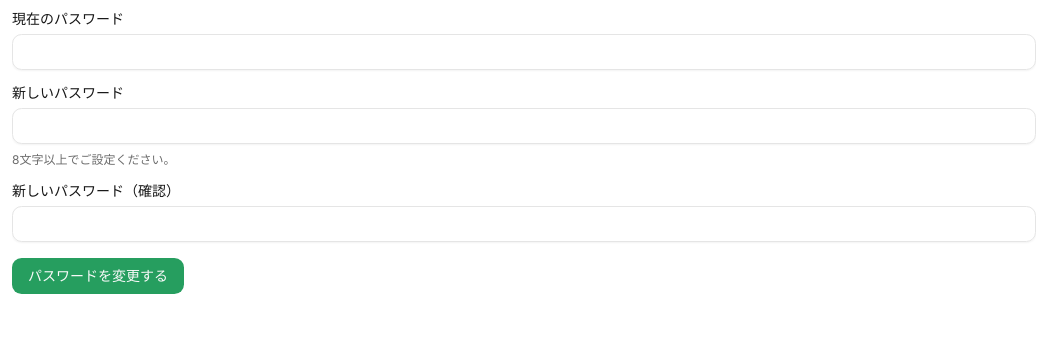
it: PasswordChangeForm › shows the 8-character minimum error for a short new password
This screenshot has width=1048, height=339.
Type "current123" into the password field labelled "現在のパスワード". click: (524, 52)
box: [12, 34, 1036, 70]
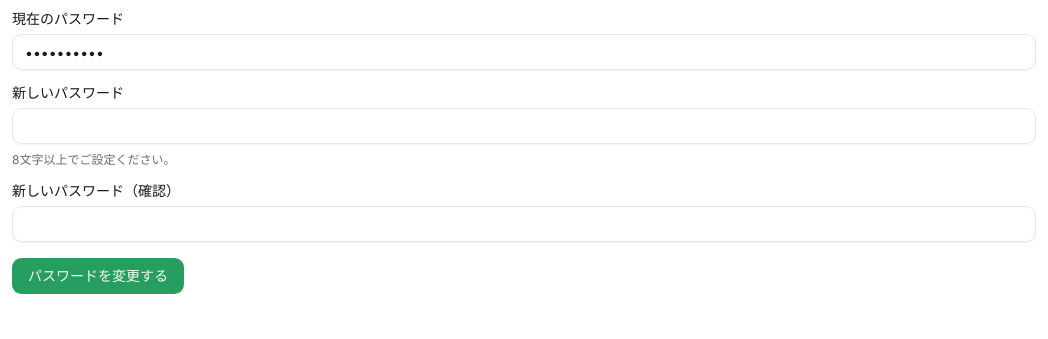
Type "short7c" into the password field labelled "新しいパスワード". click: (524, 126)
box: [12, 108, 1036, 144]
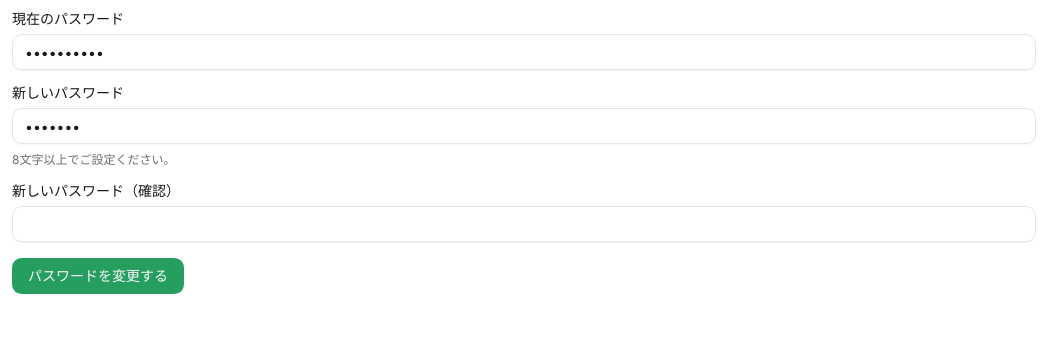
Type "short7c" into the password field labelled "新しいパスワード（確認）". click: (524, 224)
box: [12, 206, 1036, 242]
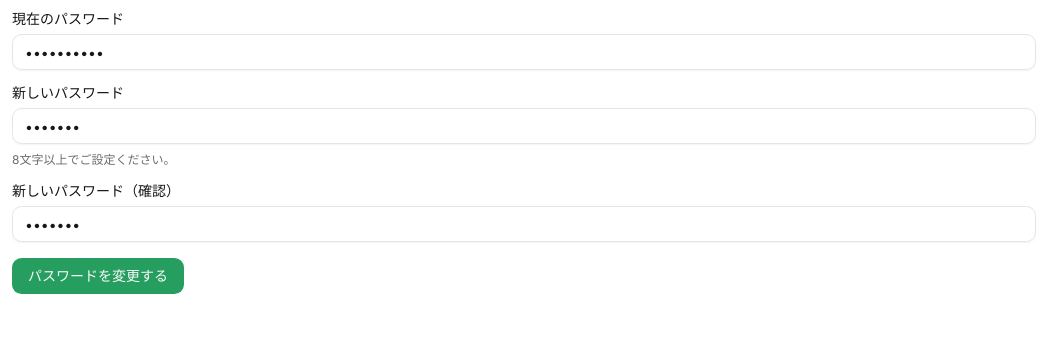
Click the button "パスワードを変更する". click: (98, 276)
box: [12, 258, 184, 294]
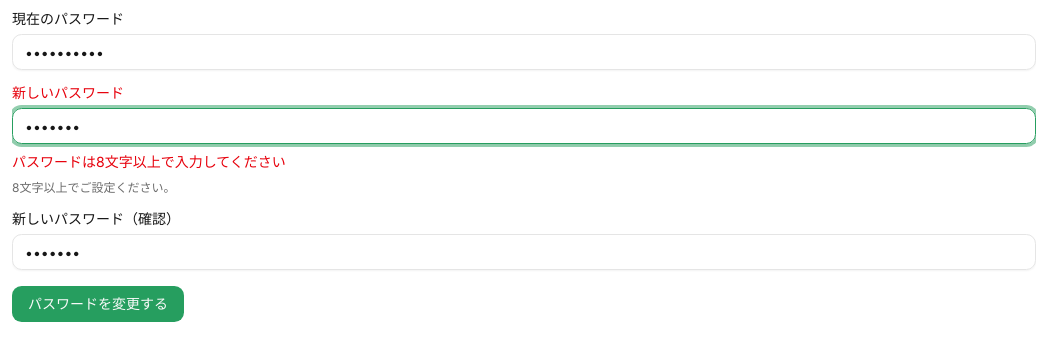
Expected: the text "パスワードは8文字以上で入力してください" is shown, [12, 153, 286, 170]
